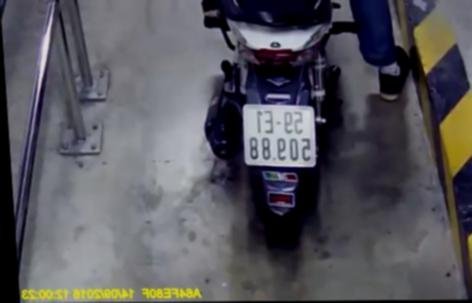License_Plate: (236, 101, 325, 170)
